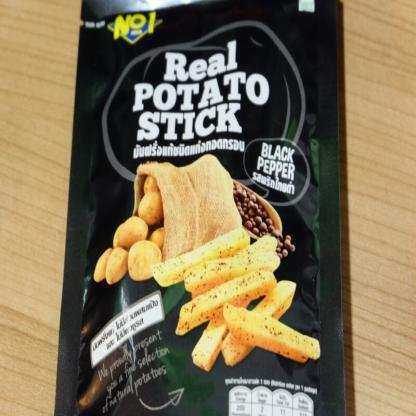potatochip: (54, 0, 348, 415)
